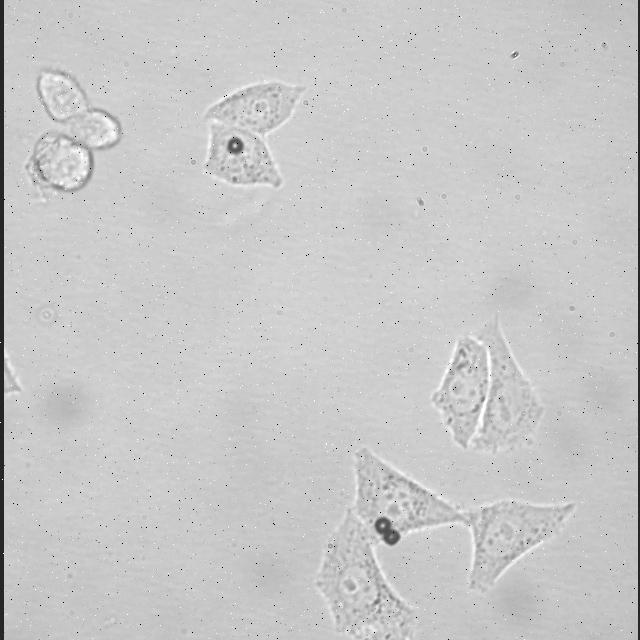microbeads: (371, 516, 392, 536), (380, 529, 400, 549), (226, 138, 244, 158)
